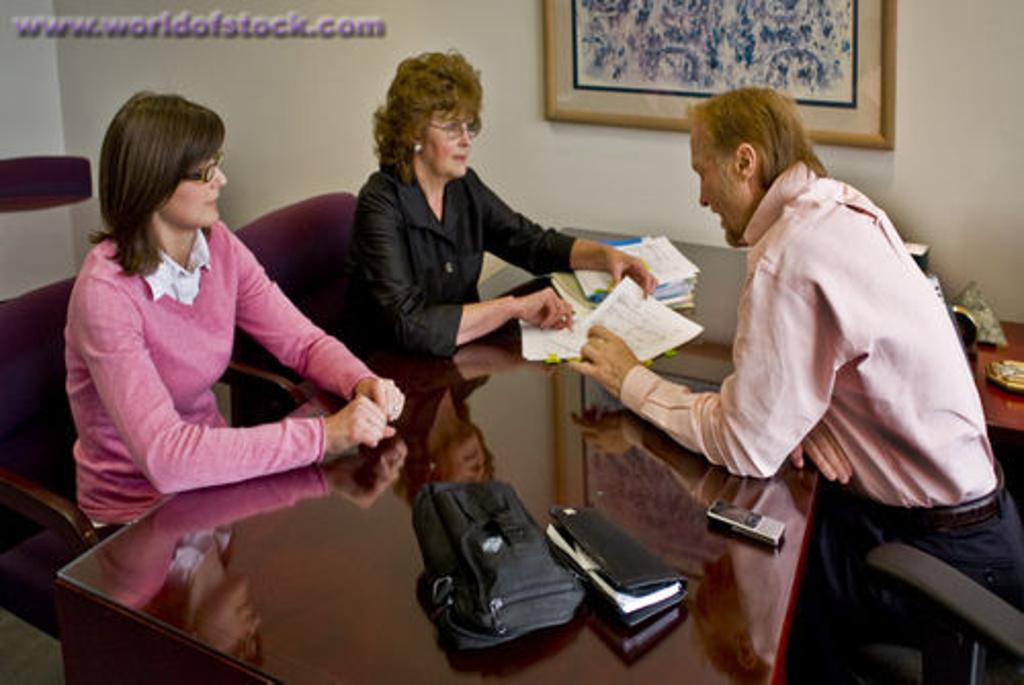face: (688, 118, 760, 244), (156, 122, 228, 232), (426, 82, 478, 176)
